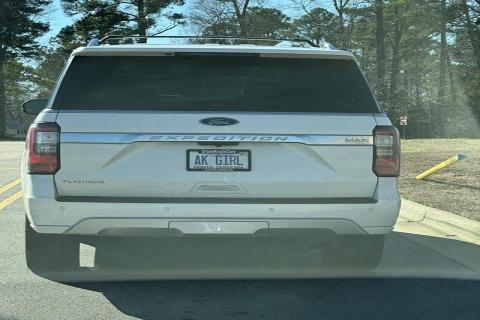LicensePlate: (184, 148, 250, 171)
